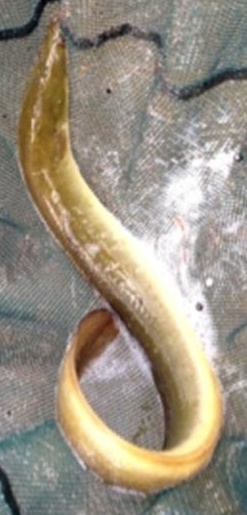Anguilla anguilla: (20, 20, 227, 495)
